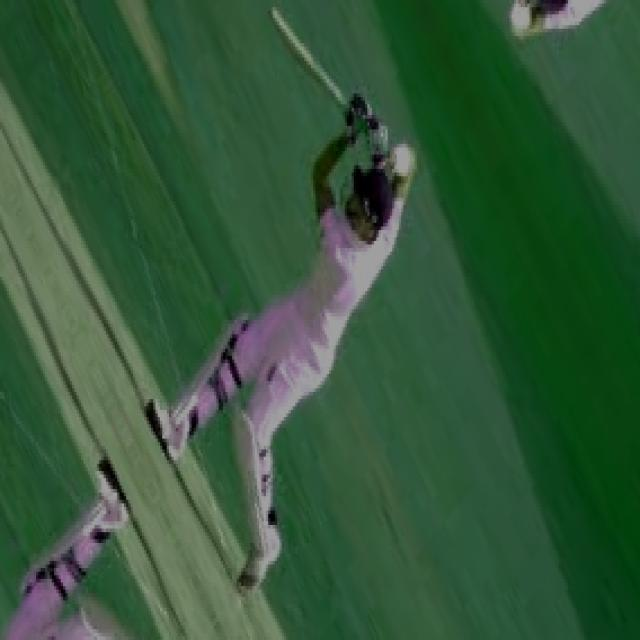bat: (259, 1, 356, 108)
toe: (260, 0, 287, 22)
